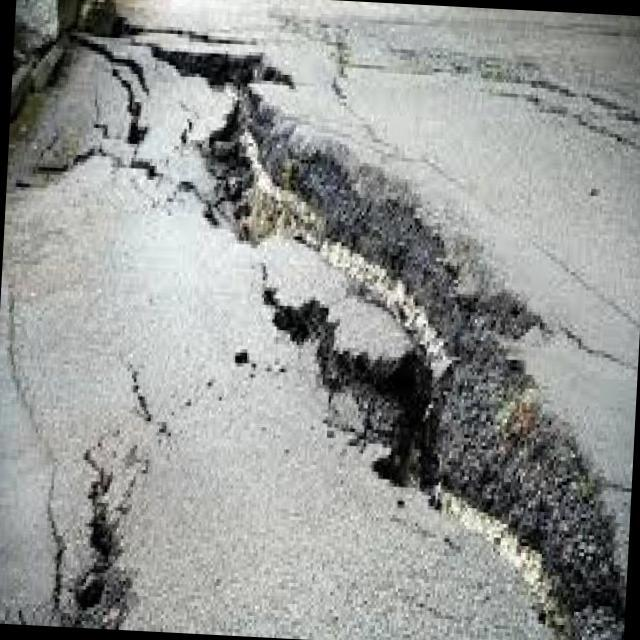Pothole: (152, 51, 627, 640)
